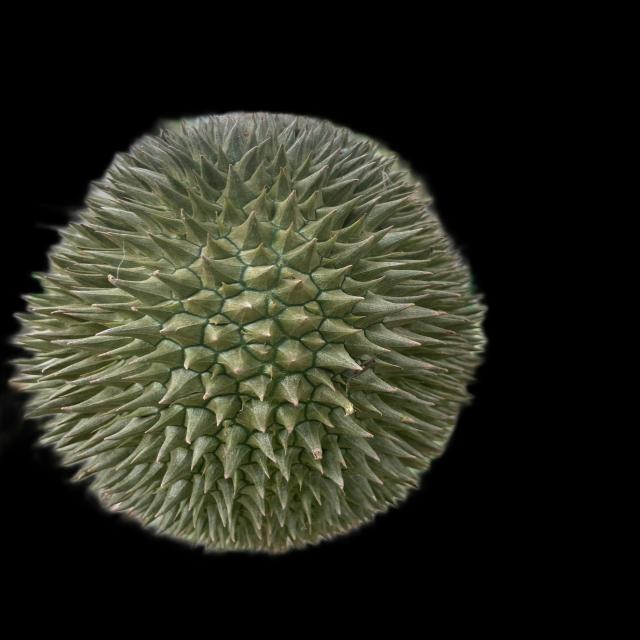immature: (16, 114, 496, 554)
